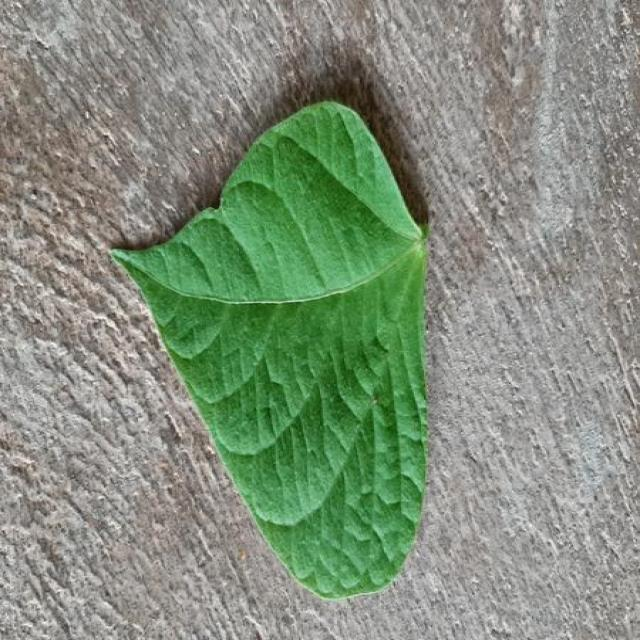beans: (113, 102, 427, 598)
